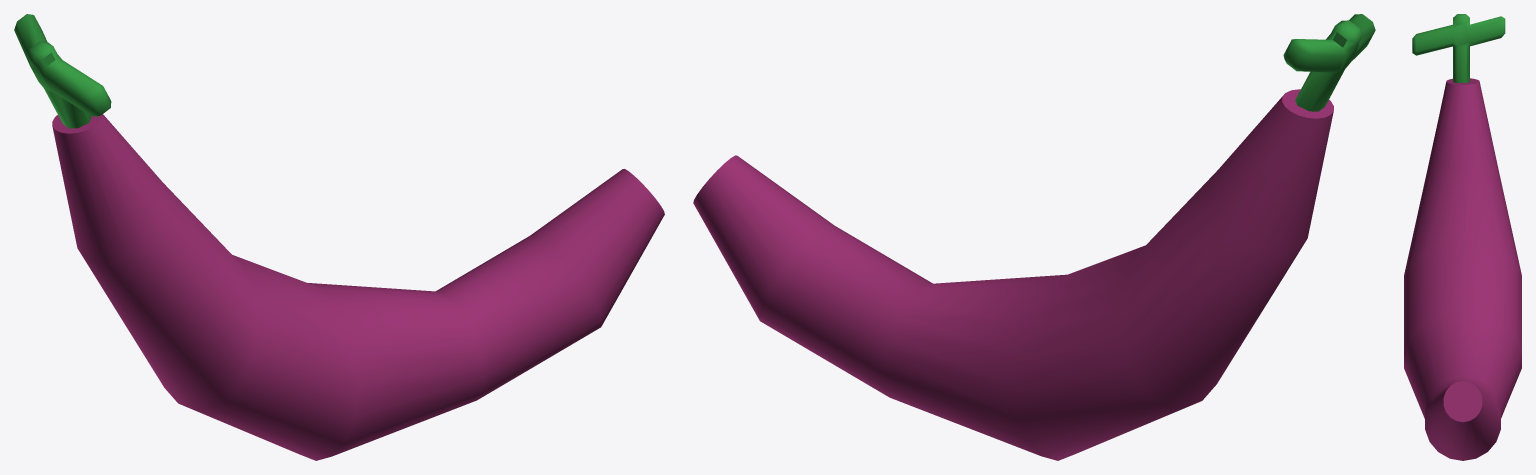
File: Banane.FBX
The picture shows the model from 3 angles, left to right: view 1: azimuth 30°, elevation 25°; view 2: azimuth 150°, elevation 25°; view 3: azimuth 270°, elevation 25°; orthographic projection. The views are drawn at different scales.
Visible parts, largest first — view 1: Cylinder001, Box001; view 2: Cylinder001, Box001; view 3: Cylinder001, Box001.
Part boxes in pixels (box(x1,y1,x2,y2)): Cylinder001: box(52, 114, 664, 460); Box001: box(14, 14, 111, 128); Cylinder001: box(693, 89, 1333, 460); Box001: box(1283, 14, 1375, 111); Cylinder001: box(1404, 78, 1521, 460); Box001: box(1412, 14, 1505, 82).
Bounding box in the file's own units: 5.1 × 3.7 × 1.26.
